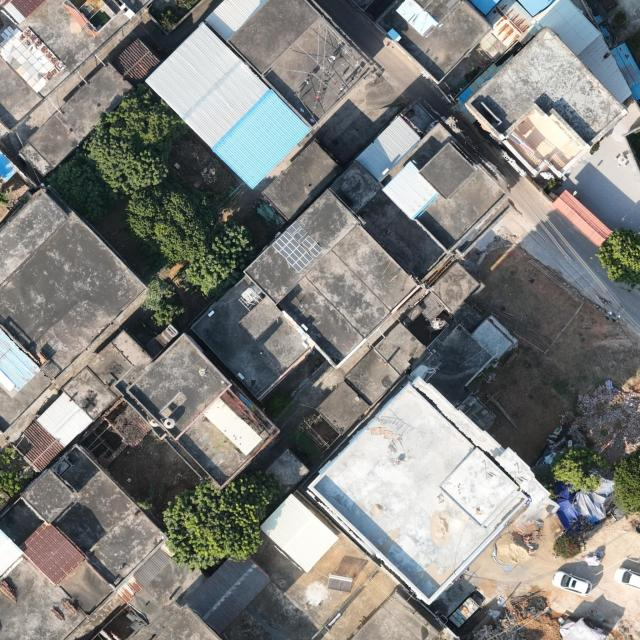Tree: (161, 470, 280, 575), (82, 82, 189, 195), (125, 182, 216, 262), (46, 148, 128, 224), (183, 220, 254, 296), (594, 225, 640, 293), (549, 446, 608, 495), (140, 273, 186, 326), (609, 454, 640, 518)
